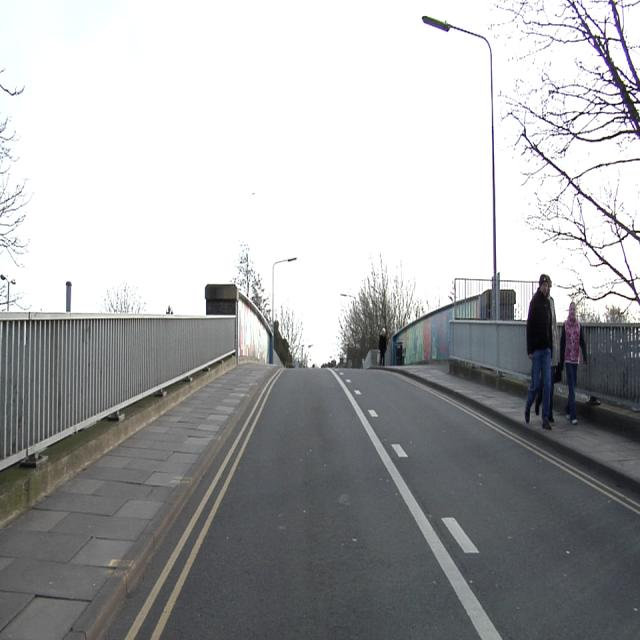Road: (152, 368, 636, 637)
Tree: (496, 1, 639, 316), (338, 252, 426, 366), (278, 300, 310, 366), (100, 281, 145, 313)
person: (527, 274, 553, 423), (563, 304, 580, 423)
